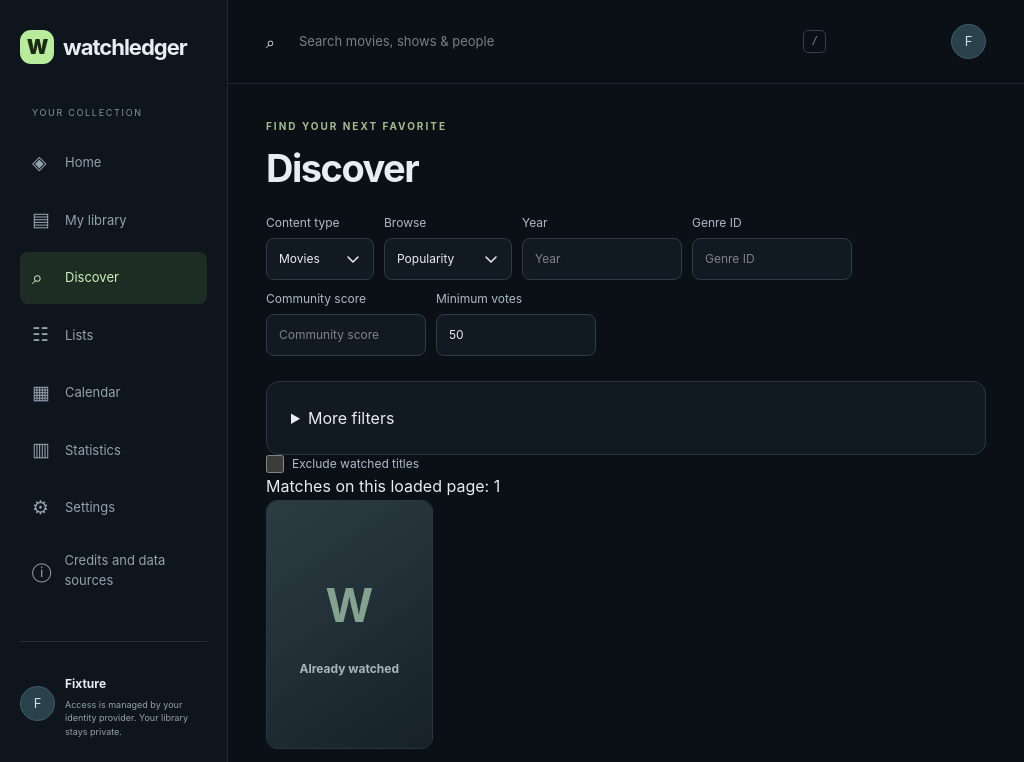
Test case: discovery counts only visible page matches and retains pagination when exclusions empty the page
The width and height of the screenshot is (1024, 762).
Click the checkbox labelled "Exclude watched titles" at (275, 464), box 266,455 -> 284,473
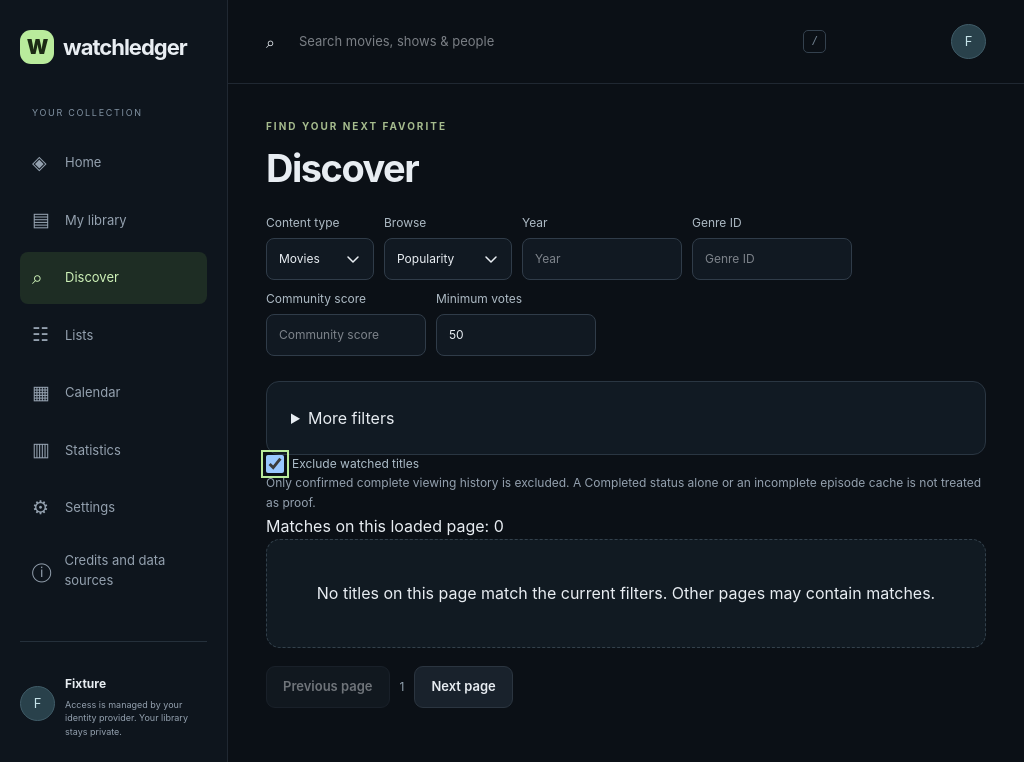
Check: the button "Next page" is enabled, box 414,666 -> 513,708
Check: the link "Already watched" is gone
Check: the text "No titles on this page match the current filters. Other pages may contain matches." is shown, box 317,583 -> 935,603
